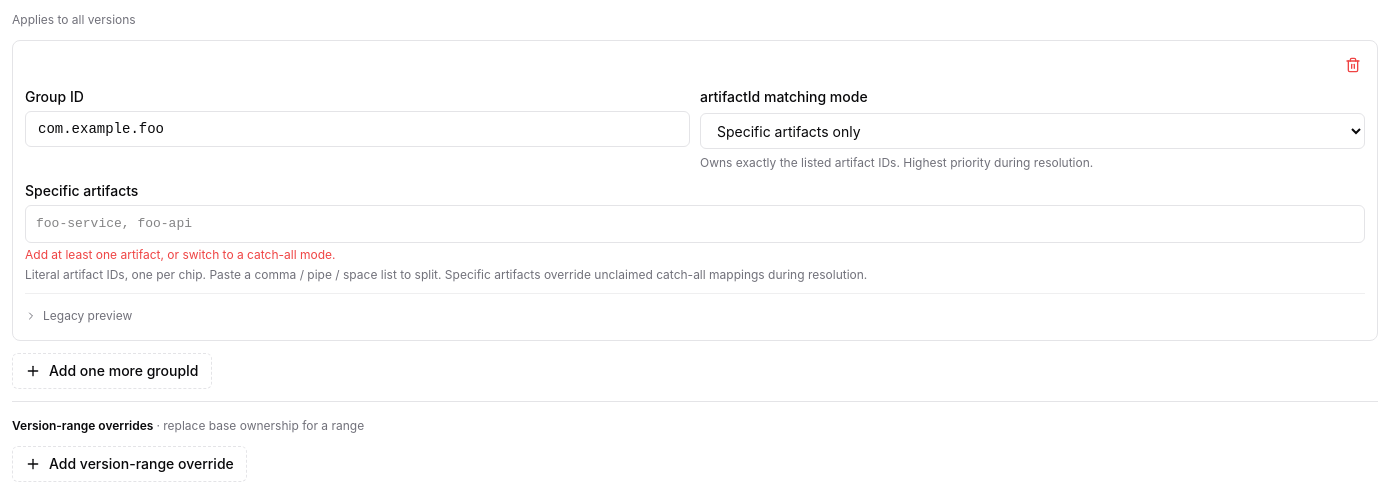
it: ArtifactOwnershipEditor › adds a literal token on Enter and rejects regex metacharacters
Type "foo-svc" into the field named "Specific artifacts" at (695, 224), box [34,213,1356,235]
Then press Enter
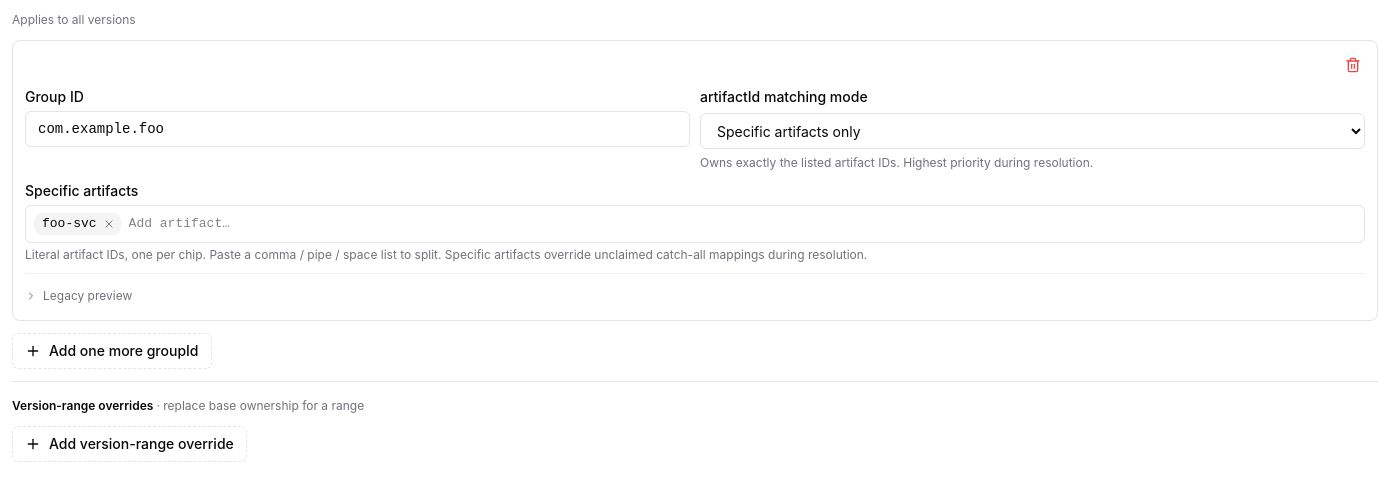
Result: the text "foo-svc" is shown at [34,213,121,235]
A metachar token is not committed (left as a flagged draft).
Type "bad*" into the field named "Specific artifacts" at (741, 224), box [127,213,1356,235]
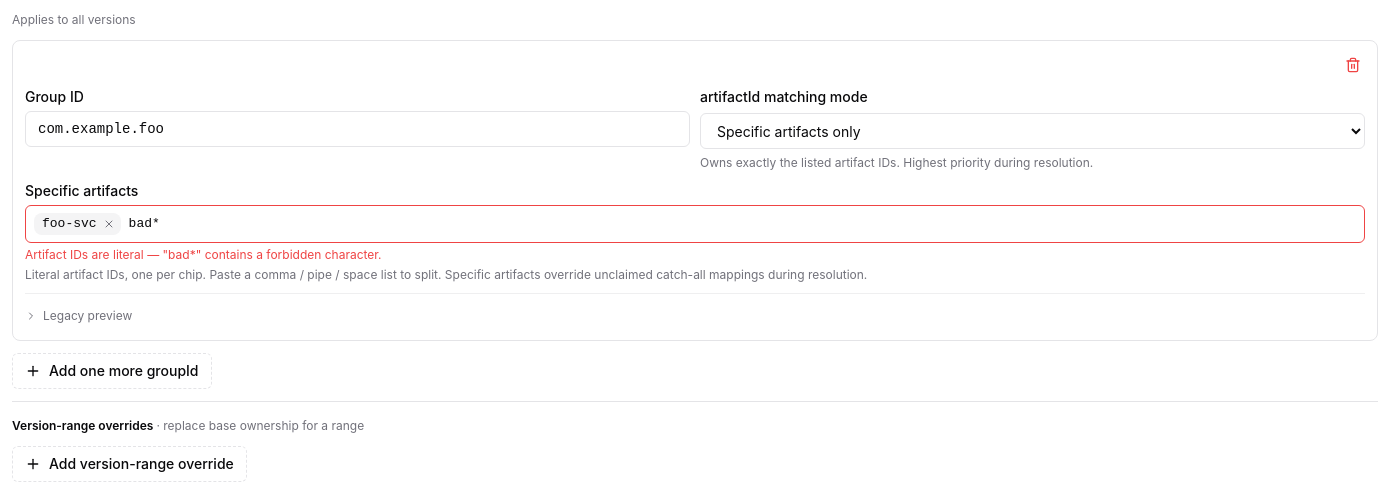
Result: the text "contains a forbidden character" is shown at [196,247,382,262]
